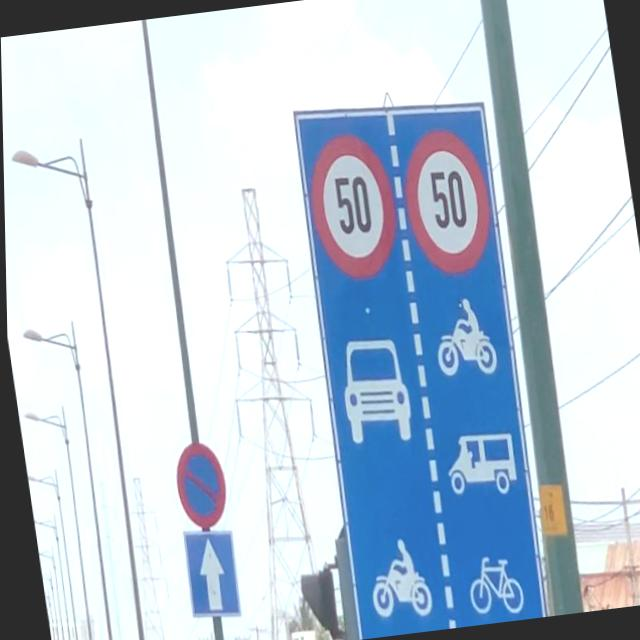Cam do xe: (168, 438, 229, 531)
Duong mot chieu: (176, 524, 242, 623)
Toc do toi da cho phep: (395, 122, 498, 280), (300, 128, 404, 284)
